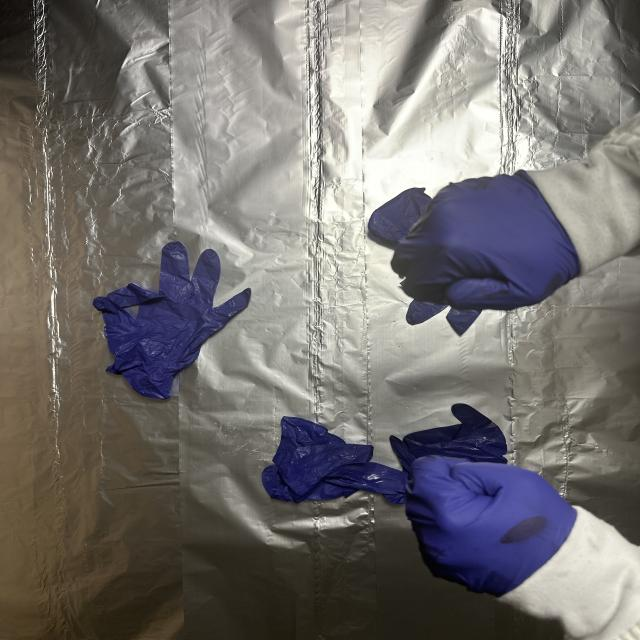gloves_contaminated: (392, 176, 579, 310), (406, 457, 577, 596)
